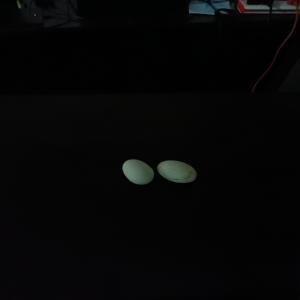Egg: (110, 152, 160, 196), (162, 156, 206, 183)
